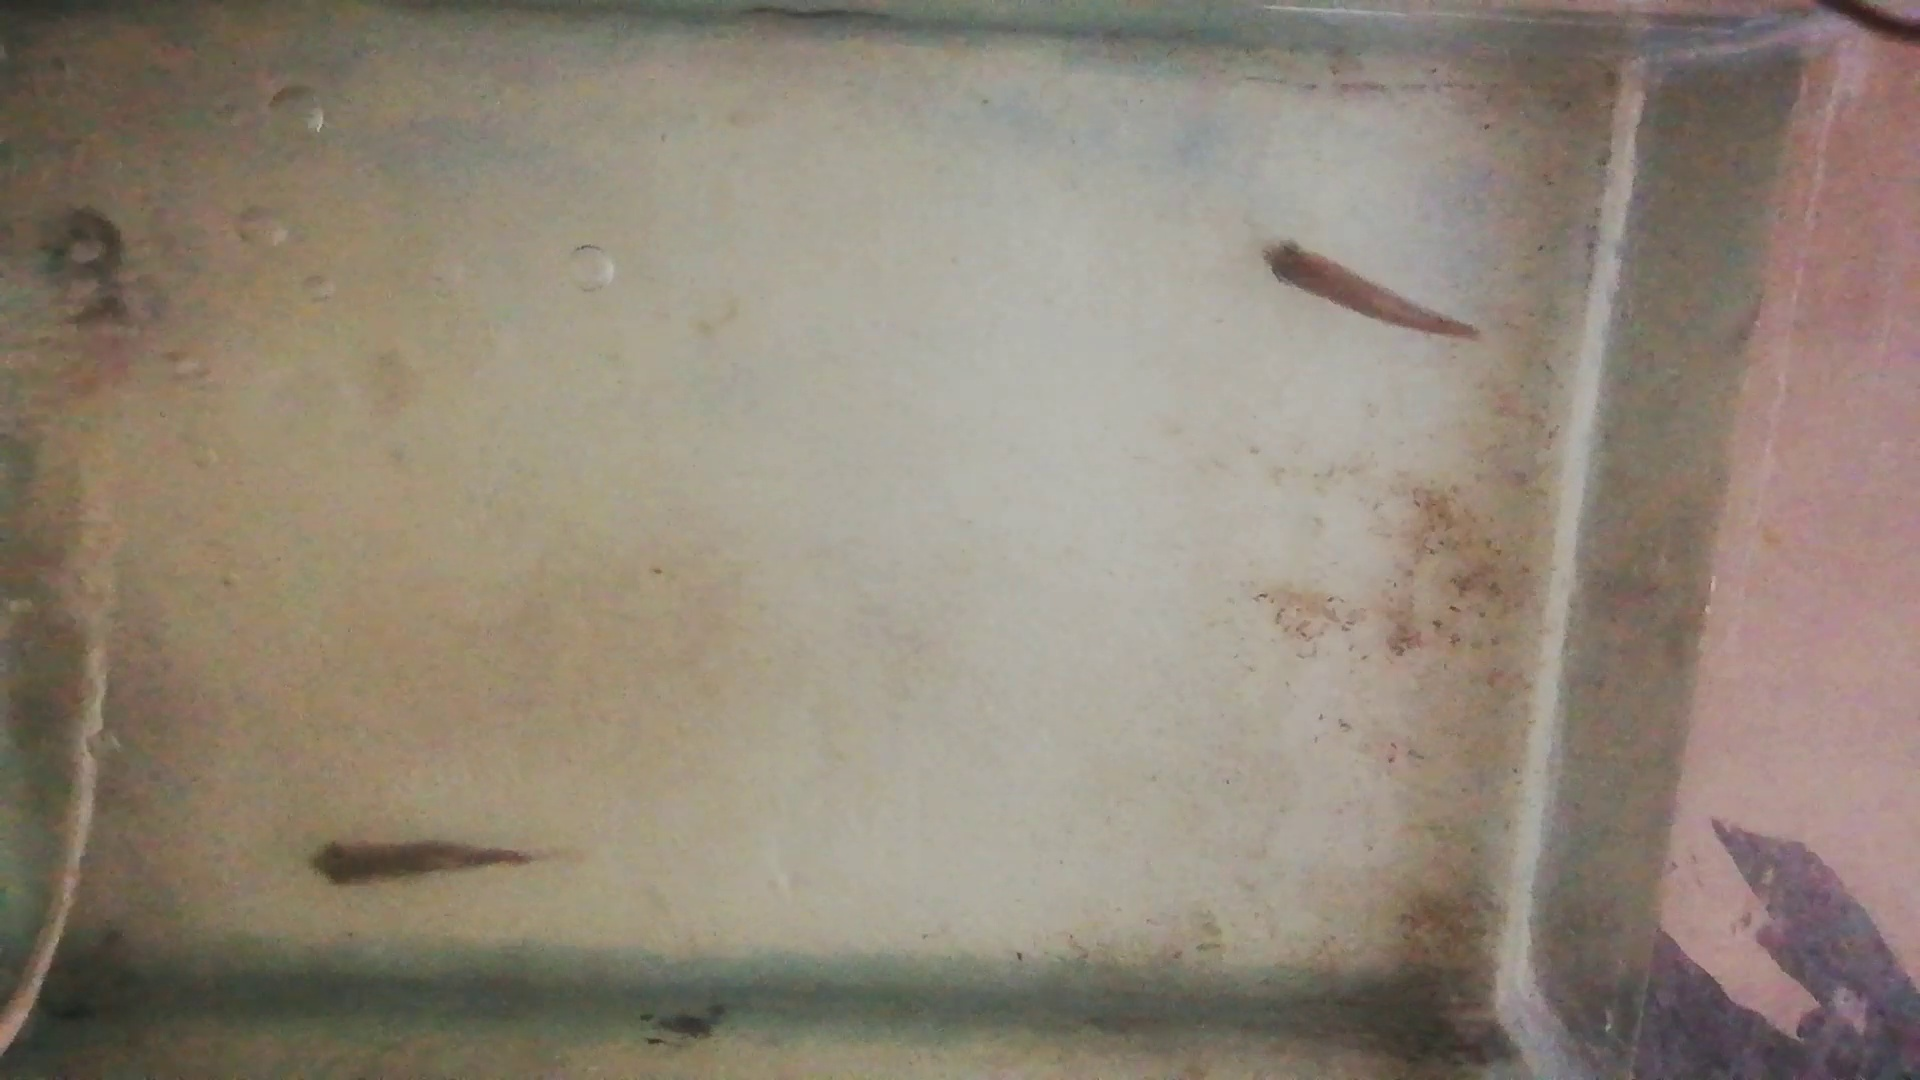fish: (1257, 243, 1480, 342), (303, 837, 527, 889)
